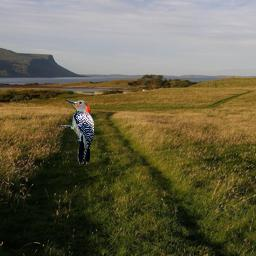Woodpecker: (60, 100, 94, 166)
